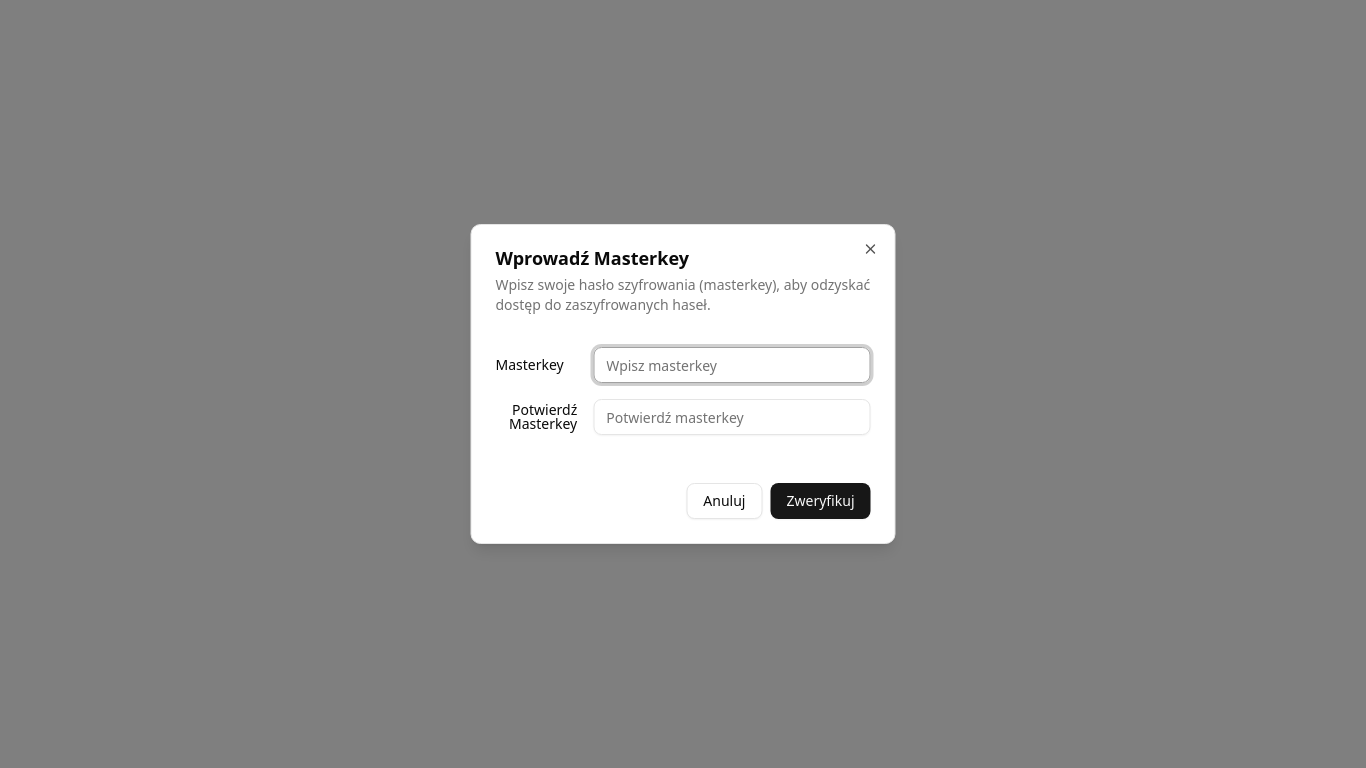
Test: Komponent RecoverMasterkeyDialog › wyświetla błąd i nie zamyka dialogu przy nieudanej weryfikacji
The image size is (1366, 768).
Step 1. Type "key123" into the password field labelled "Masterkey" → (732, 365), box left=593, top=347, right=871, bottom=383
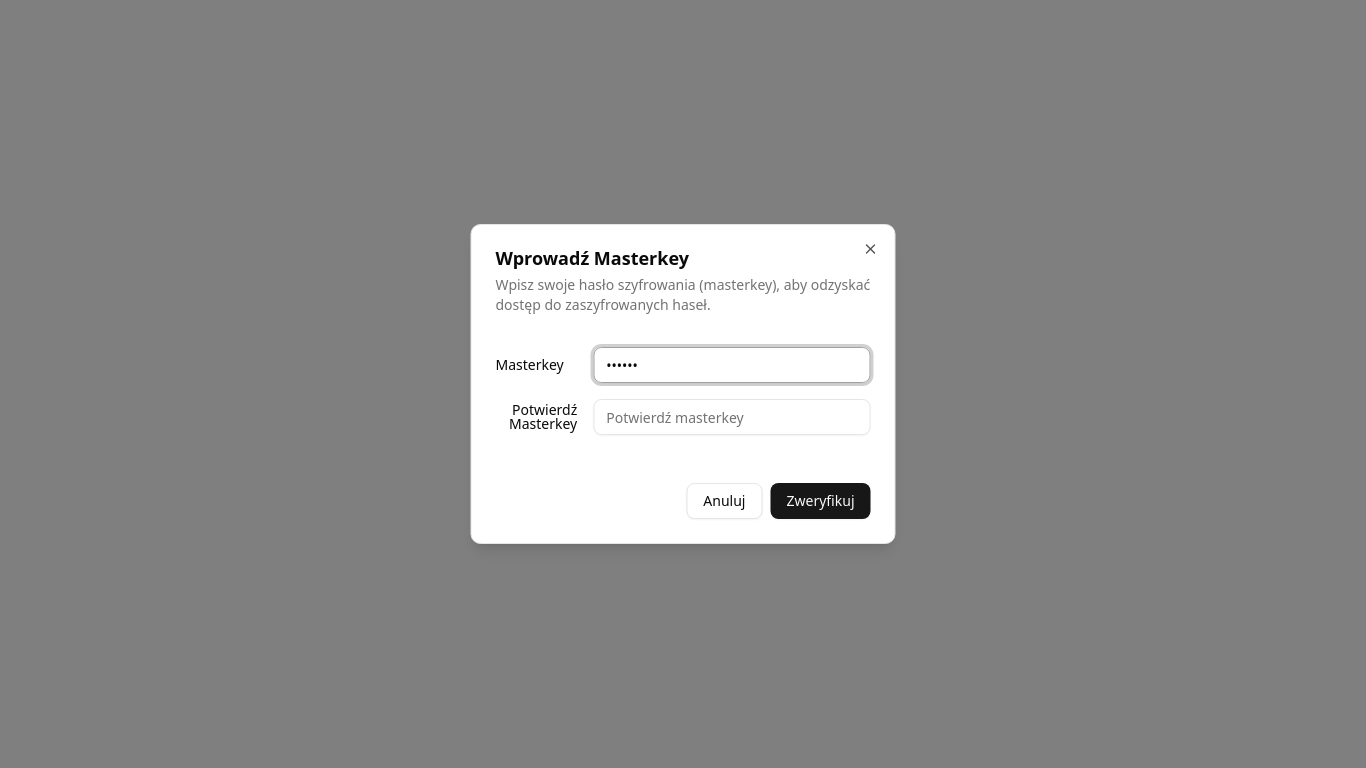
Step 2. Type "key123" into the password field labelled "Potwierdź Masterkey" → (732, 417), box left=593, top=399, right=871, bottom=435
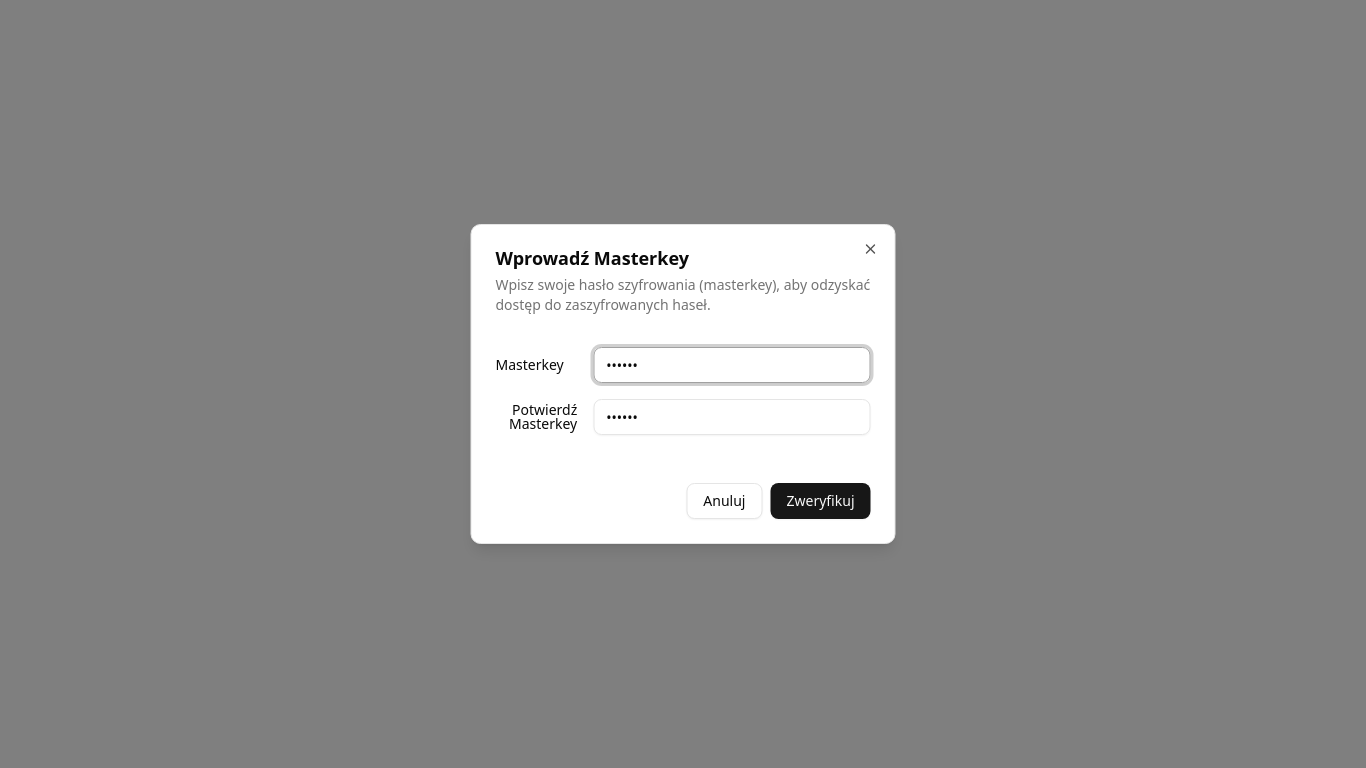
Step 3. Click the button "Zweryfikuj" → (820, 501), box left=770, top=483, right=870, bottom=519
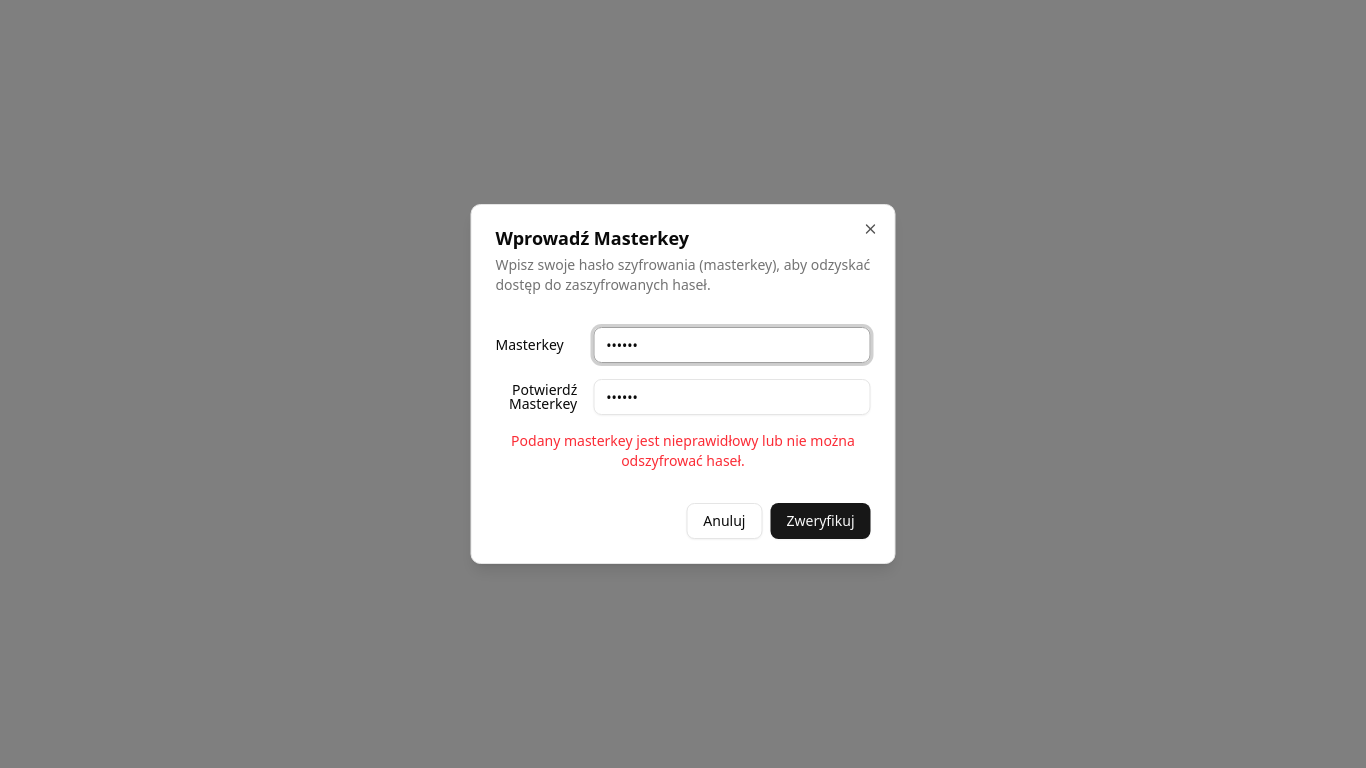
Check: the text "Podany masterkey jest nieprawidłowy lub nie można odszyfrować haseł" is shown, box left=511, top=431, right=855, bottom=470
